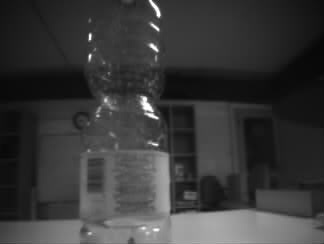Bottle: (78, 1, 171, 243)
